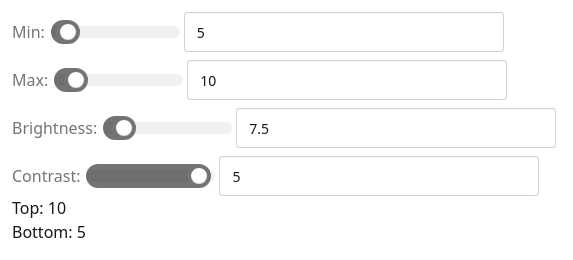
Scenario: the RangePicker() component › keeps the top above the bottom
Expected: the text "Top: 10" is shown, [12,197,66,219]
Note: Move the bottom above the old top and check that top got dragged along
Set the slider labelled "Min:" to "12" at [72, 32], box [51,20,180,44]
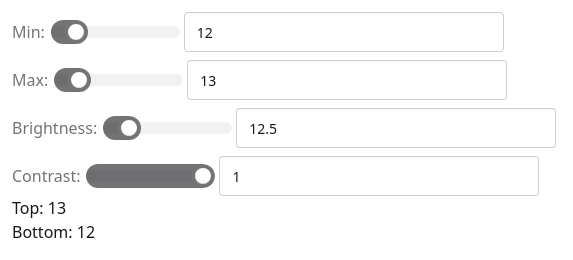
Expected: the text "Bottom: 12" is shown, [12,221,95,243]
Expected: the text "Top: 13" is shown, [12,197,66,219]
